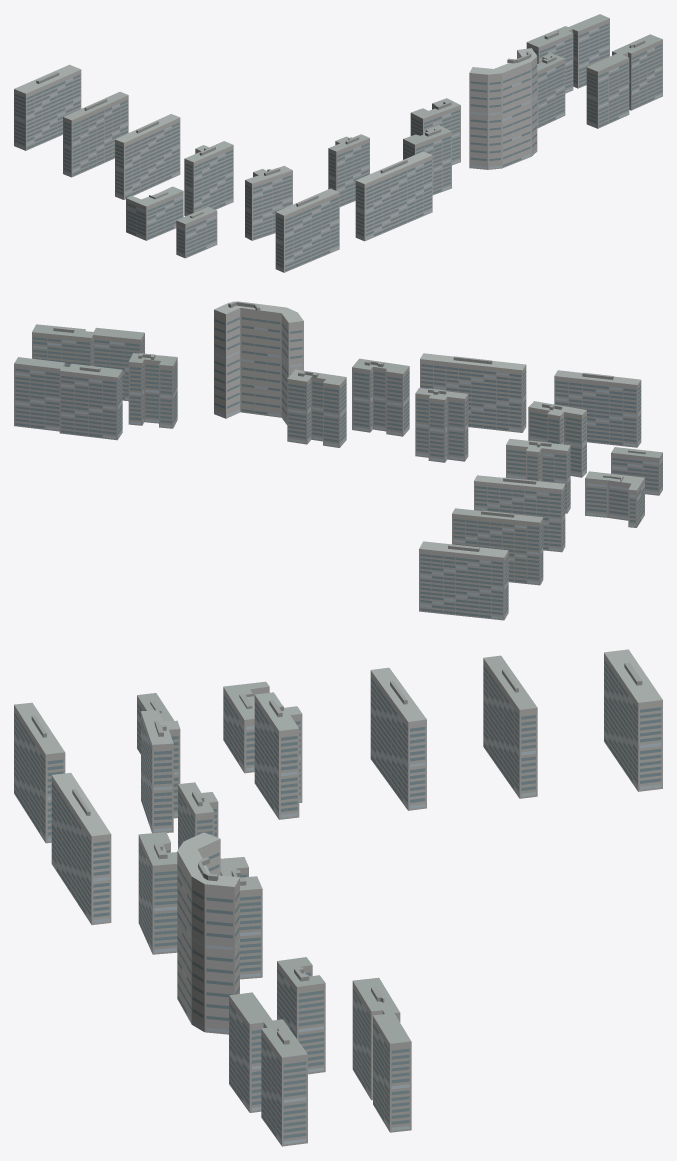
Rendered from apt-a13920706.glb.
3 views of the same model, one above another, from view 1: azimuth 30°, elevation 25°; view 2: azimuth 150°, elevation 25°; view 3: azimuth 270°, elevation 25° (orthographic). The views are drawn at different scales.
Parts seen in each view (by area): view 1: apt-a13920706; view 2: apt-a13920706; view 3: apt-a13920706.
Part boxes in pixels (box(x1,y1,x2,y2)): apt-a13920706: box(14, 14, 662, 272); apt-a13920706: box(14, 301, 662, 620); apt-a13920706: box(14, 649, 662, 1146).
Size of the model in its own units: 454 by 78.65 by 303.
